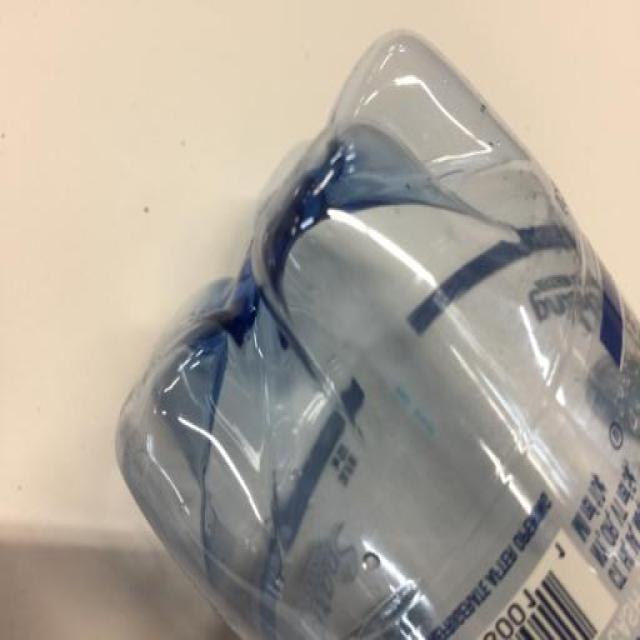Plastic: (114, 28, 640, 640)
